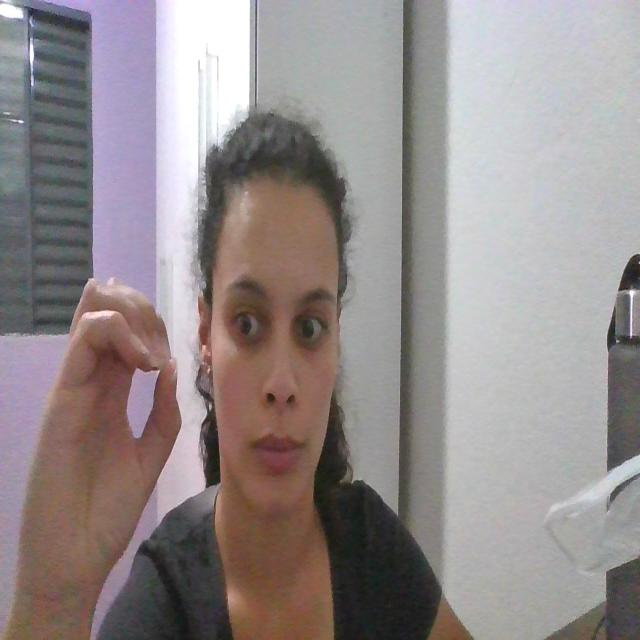O: (23, 268, 192, 585)
